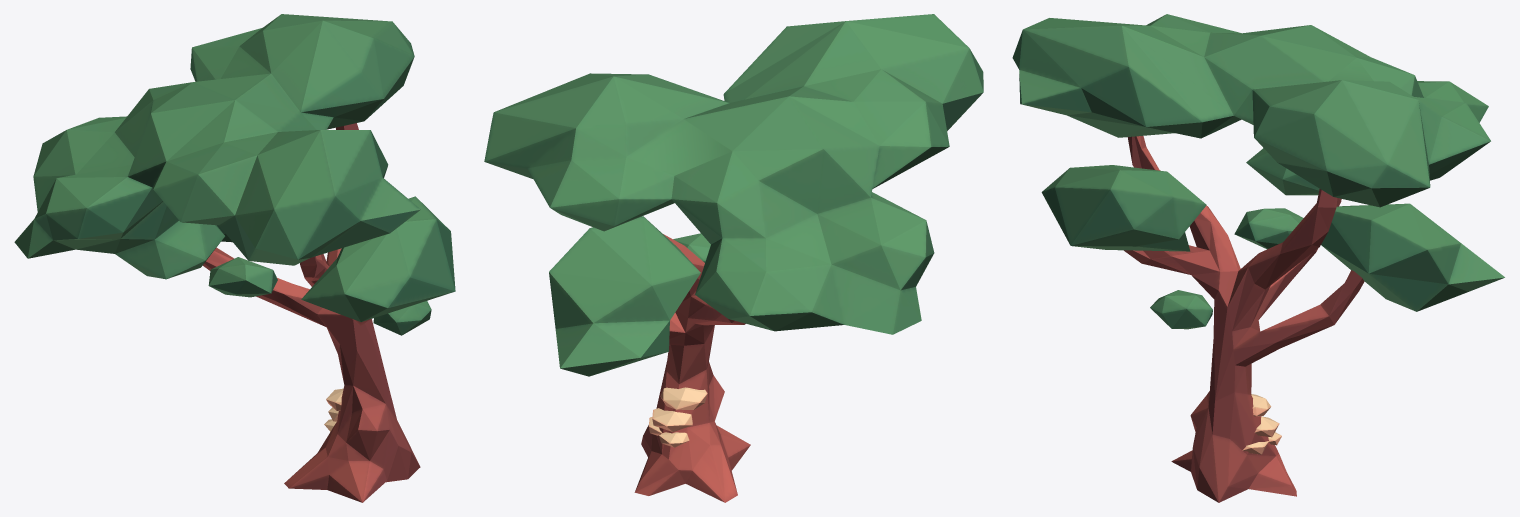
The model's file is old.glb.
3 views of the same model, side by side, from view 1: azimuth 30°, elevation 25°; view 2: azimuth 150°, elevation 25°; view 3: azimuth 270°, elevation 25° (orthographic). The views are drawn at different scales.
Bounding box in the file's own units: 5.35 × 5.37 × 5.77.
Materials: 1 (1 with a texture image).
